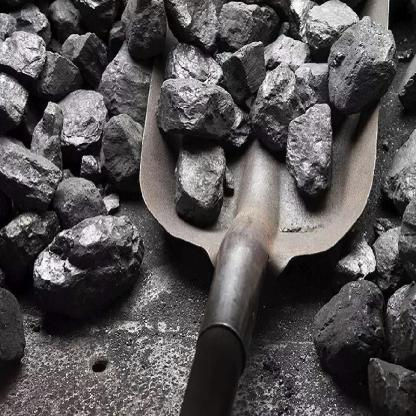Sedimentary_coal: (29, 206, 149, 334), (153, 24, 247, 156), (327, 18, 401, 116), (254, 54, 328, 152), (317, 268, 383, 367), (283, 92, 336, 196), (171, 143, 230, 220), (42, 87, 109, 148), (114, 3, 178, 61), (209, 3, 284, 52), (0, 24, 51, 89), (99, 106, 145, 176), (384, 125, 415, 211), (63, 28, 107, 84), (302, 0, 362, 41), (370, 228, 402, 296), (33, 103, 66, 167), (0, 70, 32, 128), (38, 54, 73, 96)
